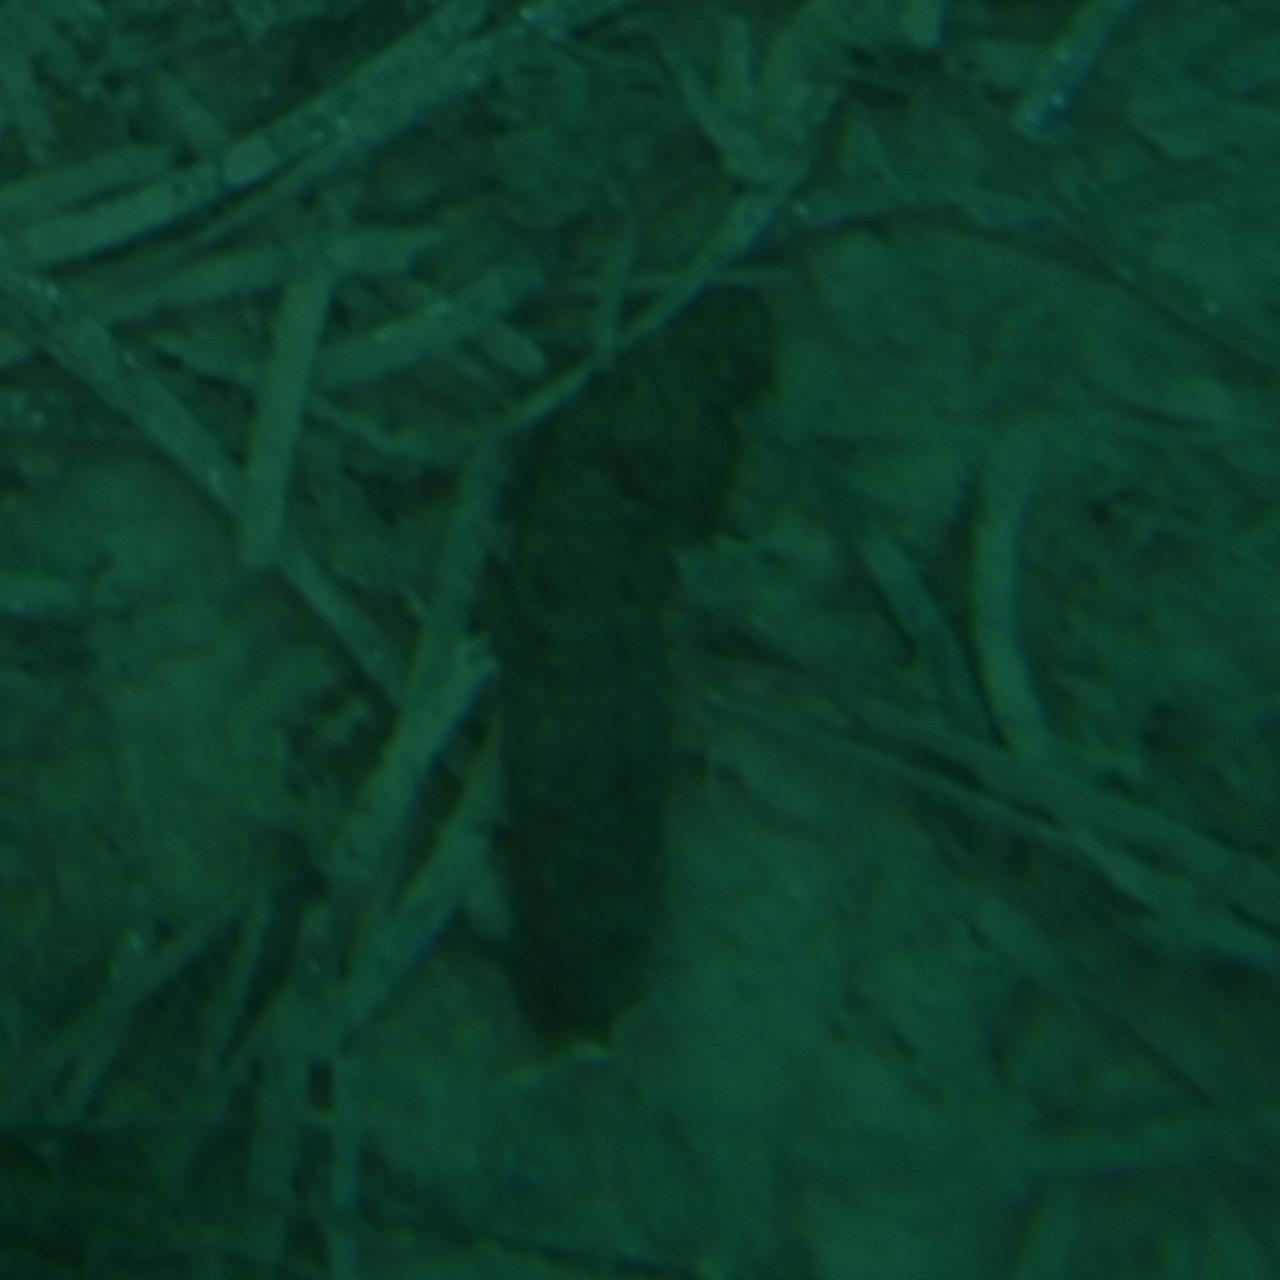Holothuria tubulosa: (492, 280, 788, 1047)
